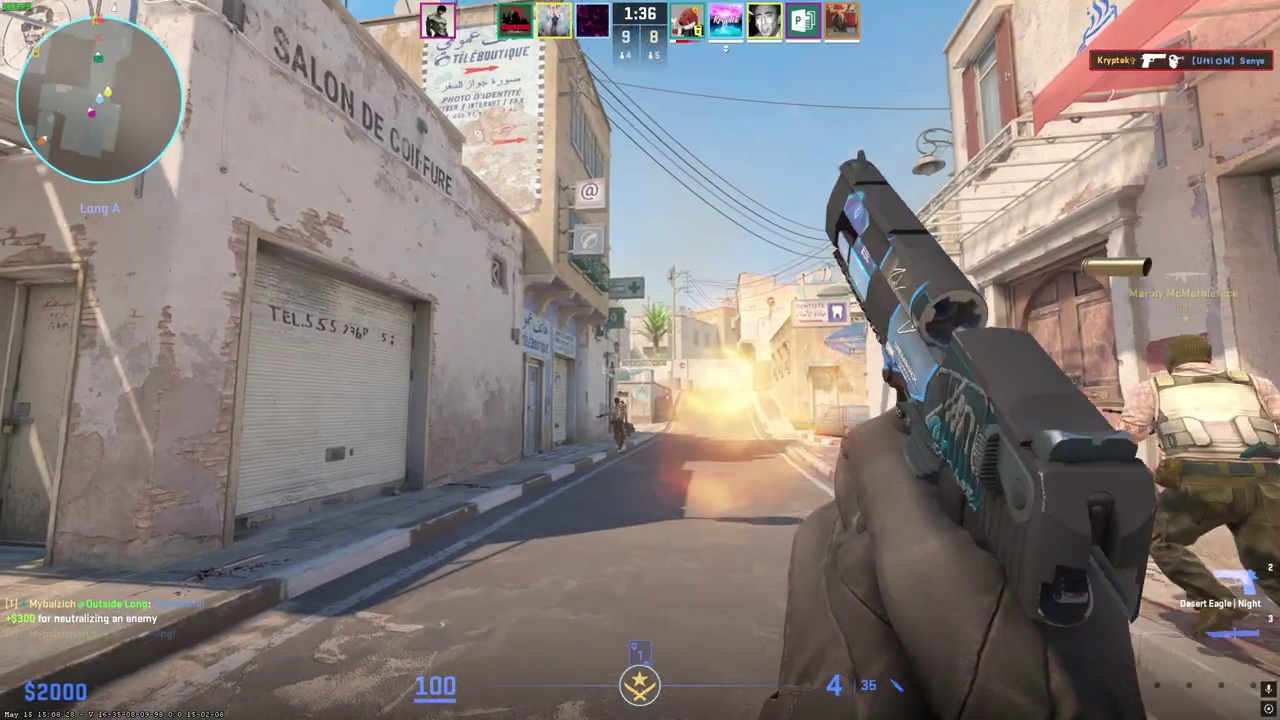Terrorist: (1127, 335, 1279, 642), (608, 397, 626, 451)
